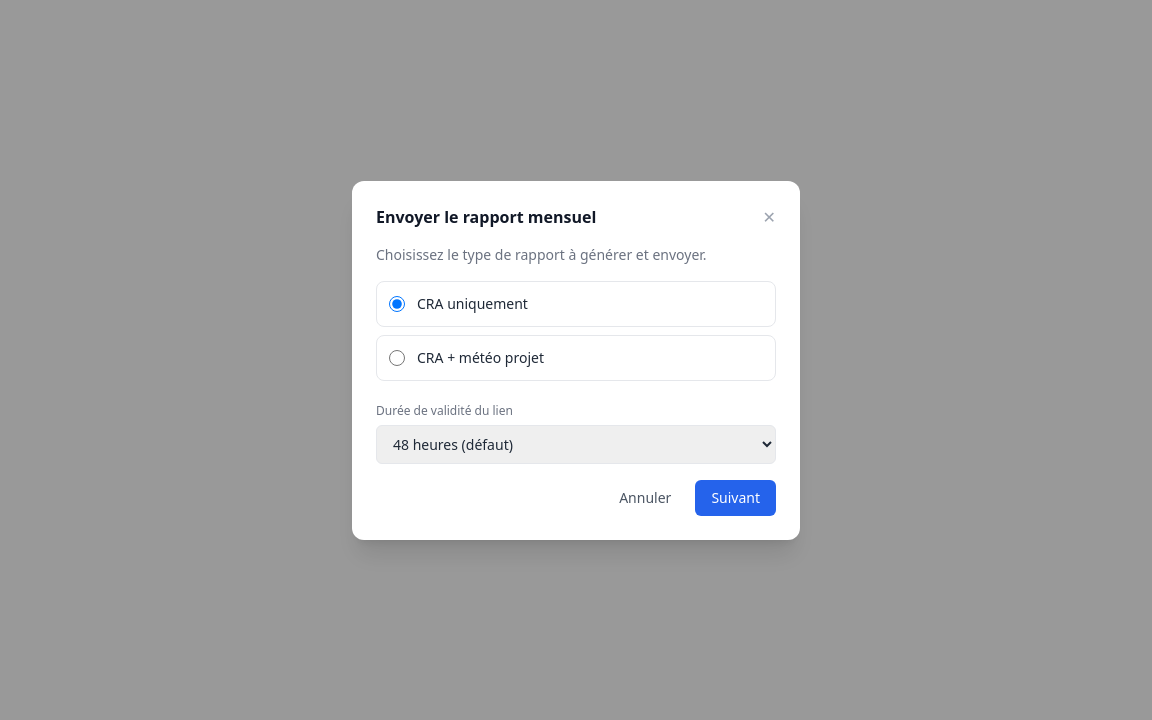
Test: SendReportModal › disables submit button when no recipient is checked
The width and height of the screenshot is (1152, 720).
Click the button "Suivant".
click(736, 498)  # box [695, 480, 776, 516]
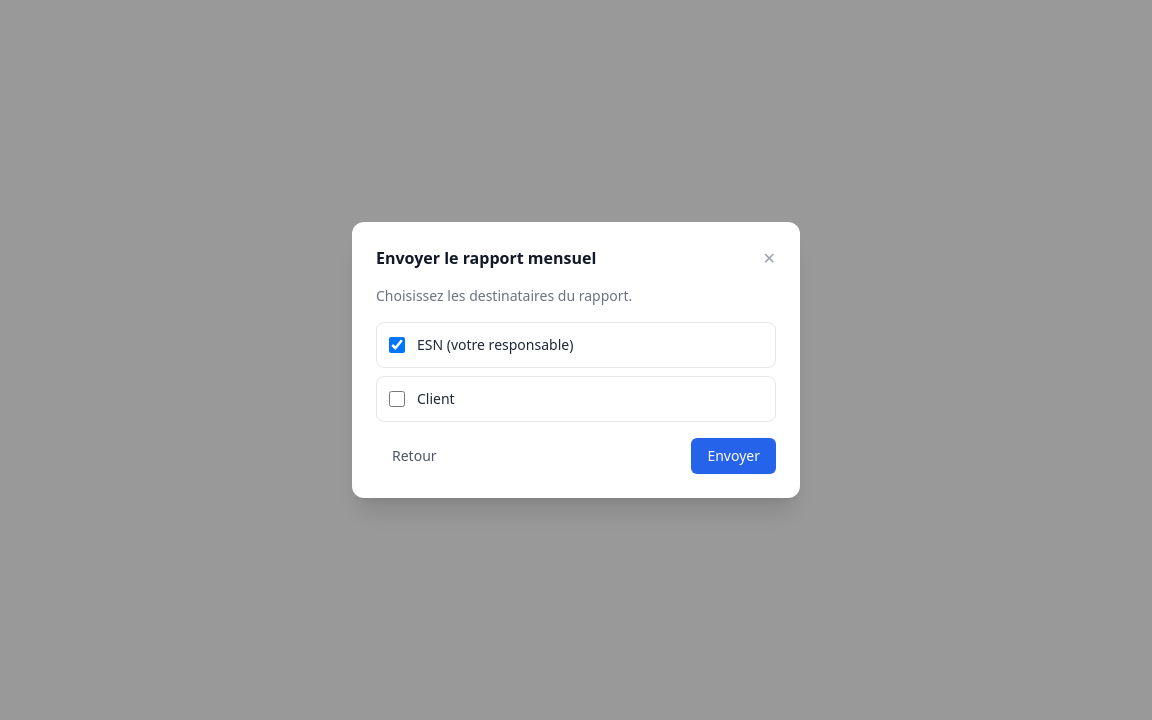
// Uncheck ESN
Click the checkbox labelled "ESN (votre responsable)".
click(397, 345)  # box [389, 337, 405, 353]
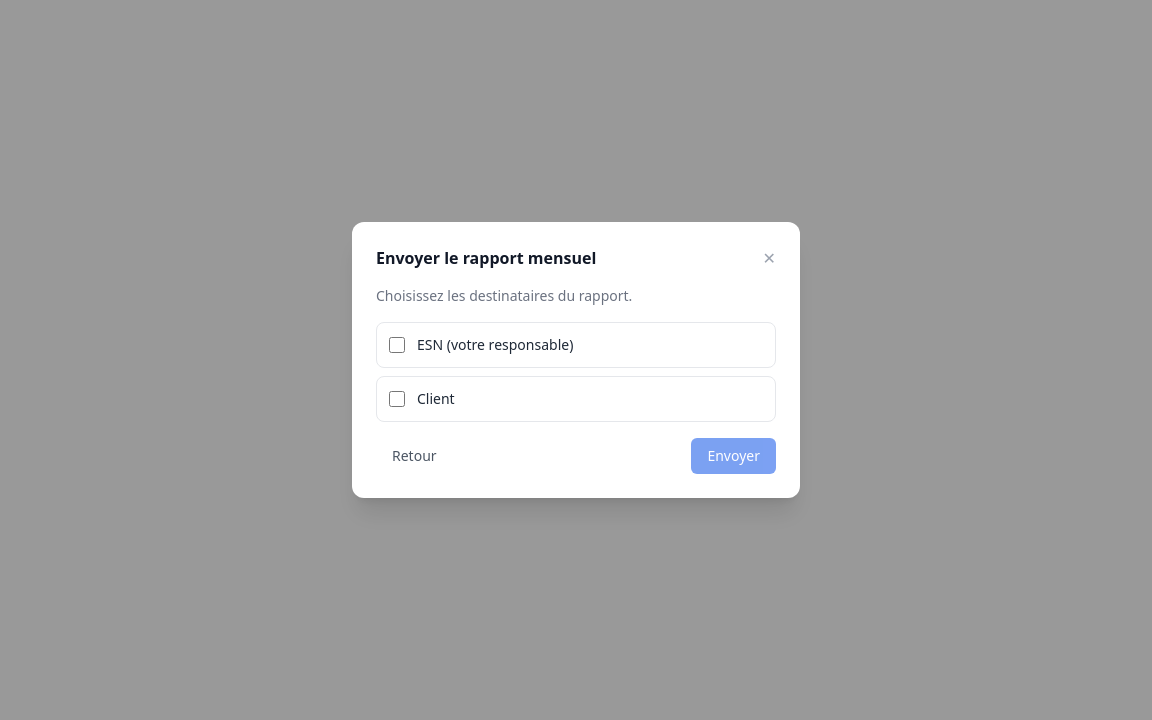
Result: the button "Envoyer" is disabled at [691, 438, 776, 474]
